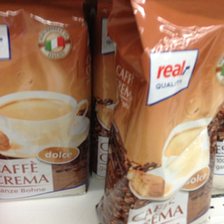coffee: (96, 1, 223, 224), (1, 1, 92, 202)
